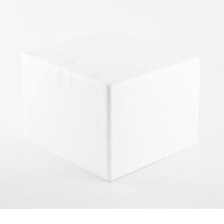foam_box: (17, 25, 205, 185)
